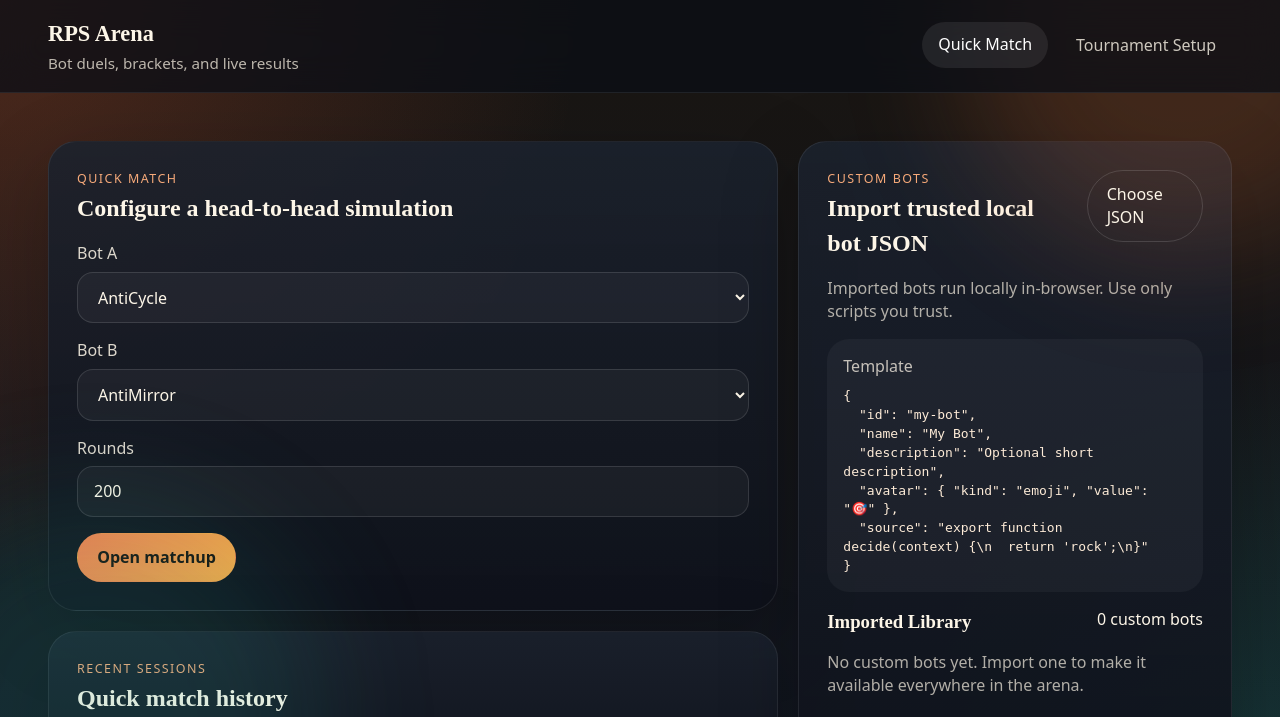
Test case: app flows › runs a quick match through the shared matchup screen
Expected: the heading "Configure a head-to-head simulation" is shown, [77,191,453,226]
Step 1. Click the button "Open matchup" → (157, 558), box [77,533,236,582]
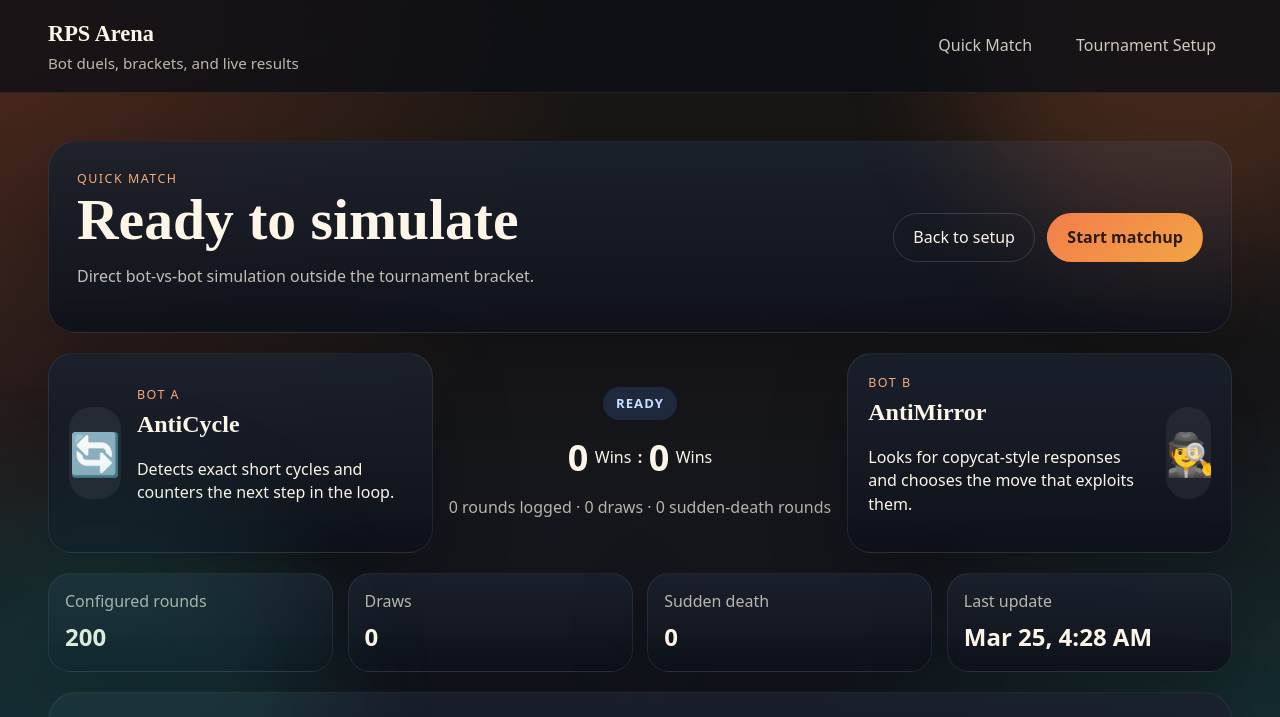
Expected: the heading "Ready to simulate" is shown, [77,188,518,251]
Step 2. Click the button "Start matchup" → (1125, 237), box [1047,212,1203,262]
(page scrolled)
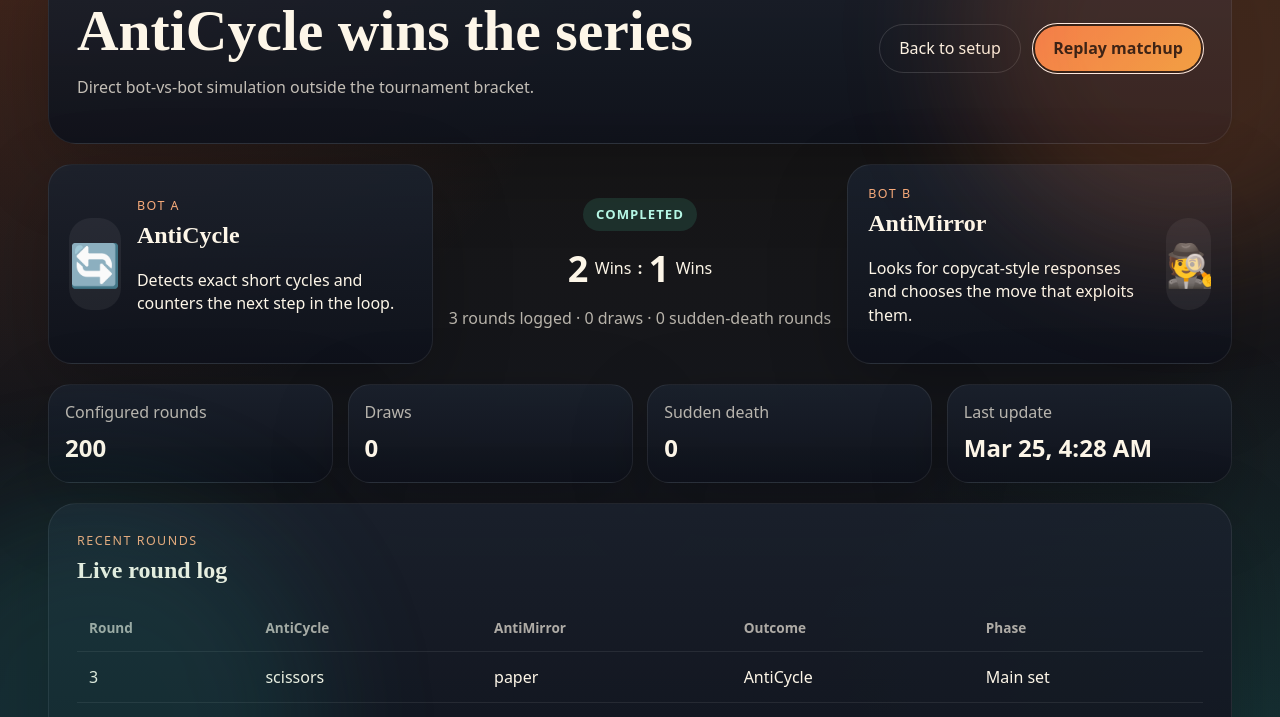
Expected: the heading "Live round log" is shown, [77,553,227,588]
Expected: the heading "AntiCycle wins the series" is shown, [77,0,693,62]
